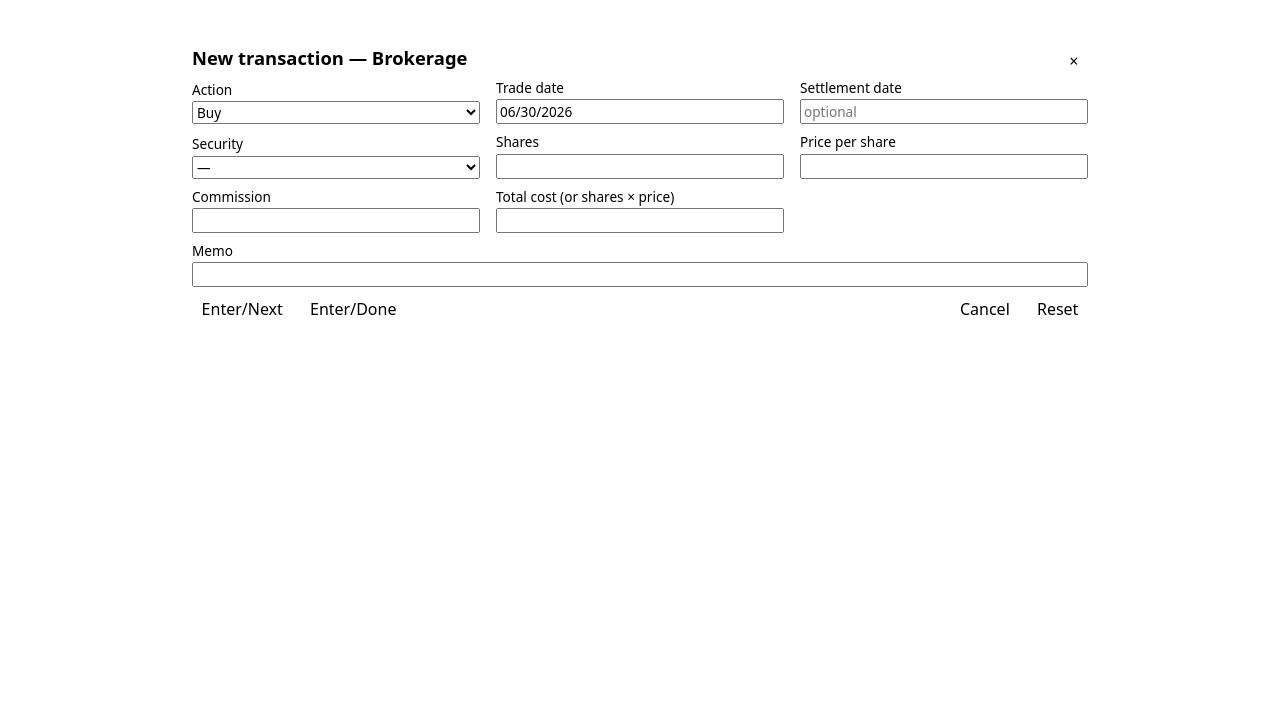
Test case: Investment entry dialog (INV-030) › a date that does not parse is caught before anything is sent
The width and height of the screenshot is (1280, 720).
Replace the text in the field labelled "Trade date" with "99/99": (640, 112) [496,99,784,124]
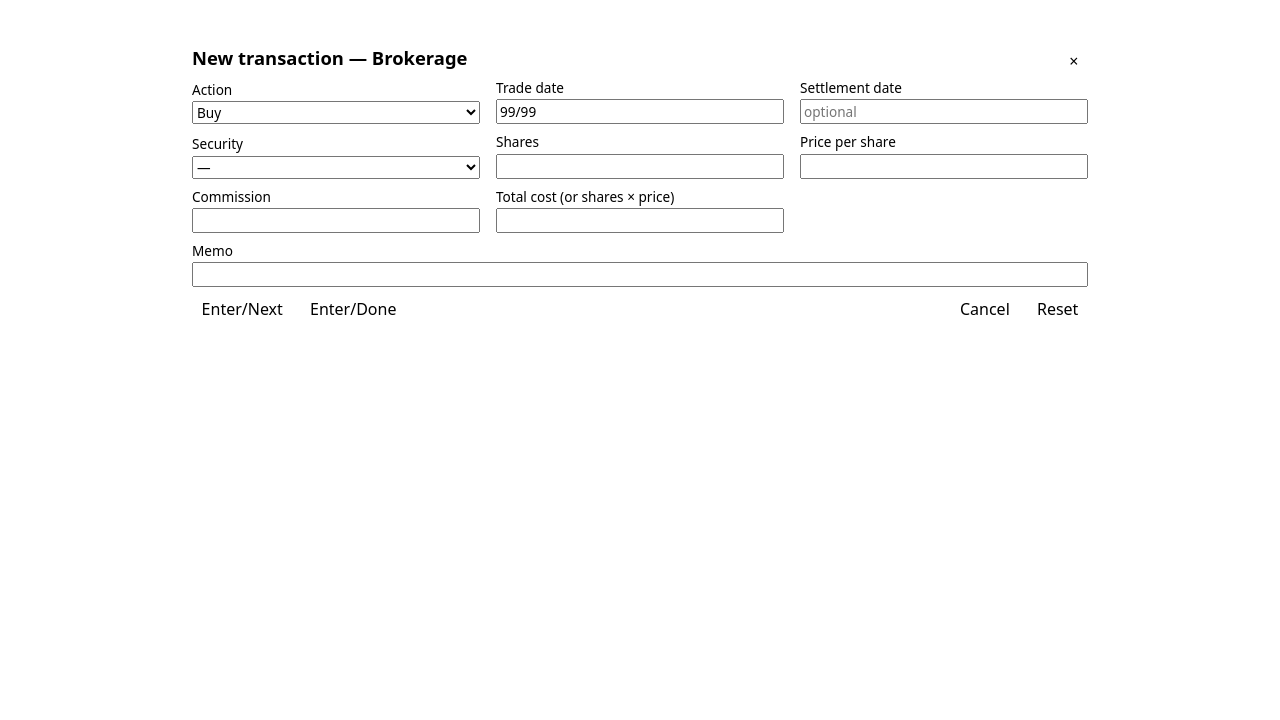
Click the button "Enter/Done": (353, 309) [300,295,406,322]
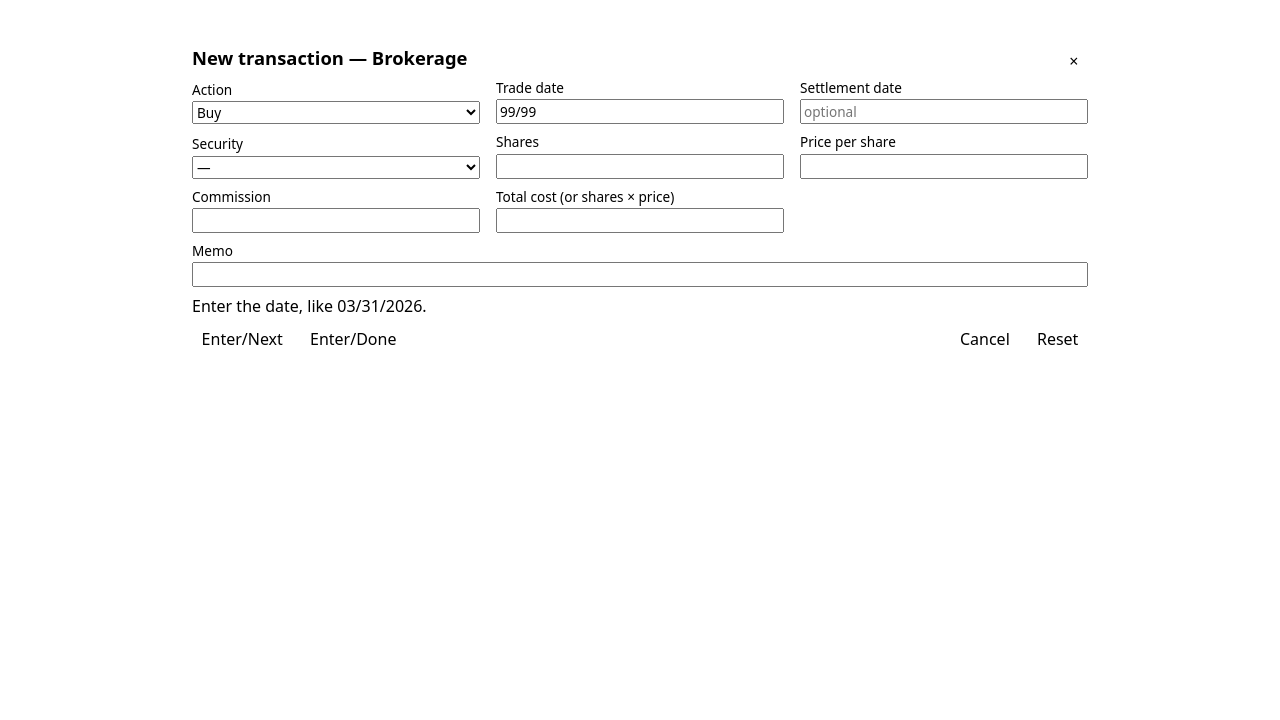
Expected: the message shows "date", [192,295,427,317]
